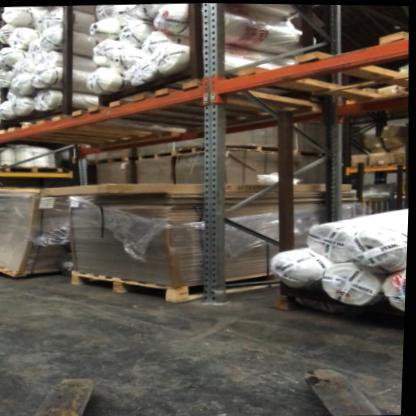vertical_damage: (204, 282, 231, 308)
